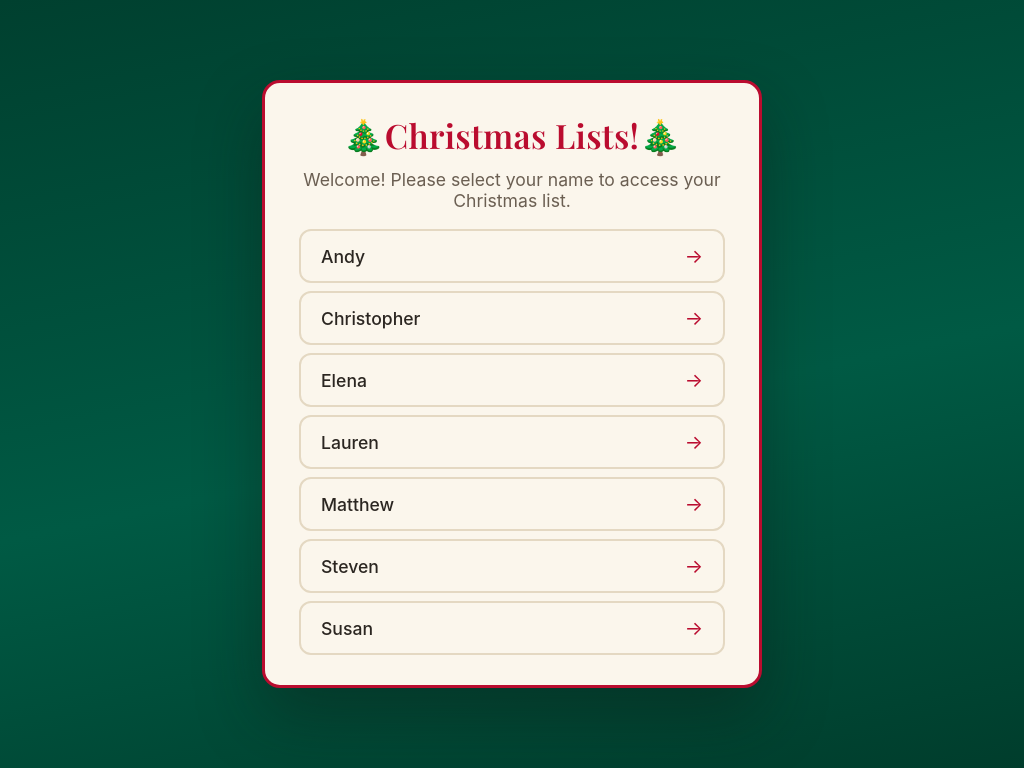
it: one person's password cannot sign in as another
The image size is (1024, 768).
Click the text "Elena" at (344, 380), box [321, 370, 367, 390]
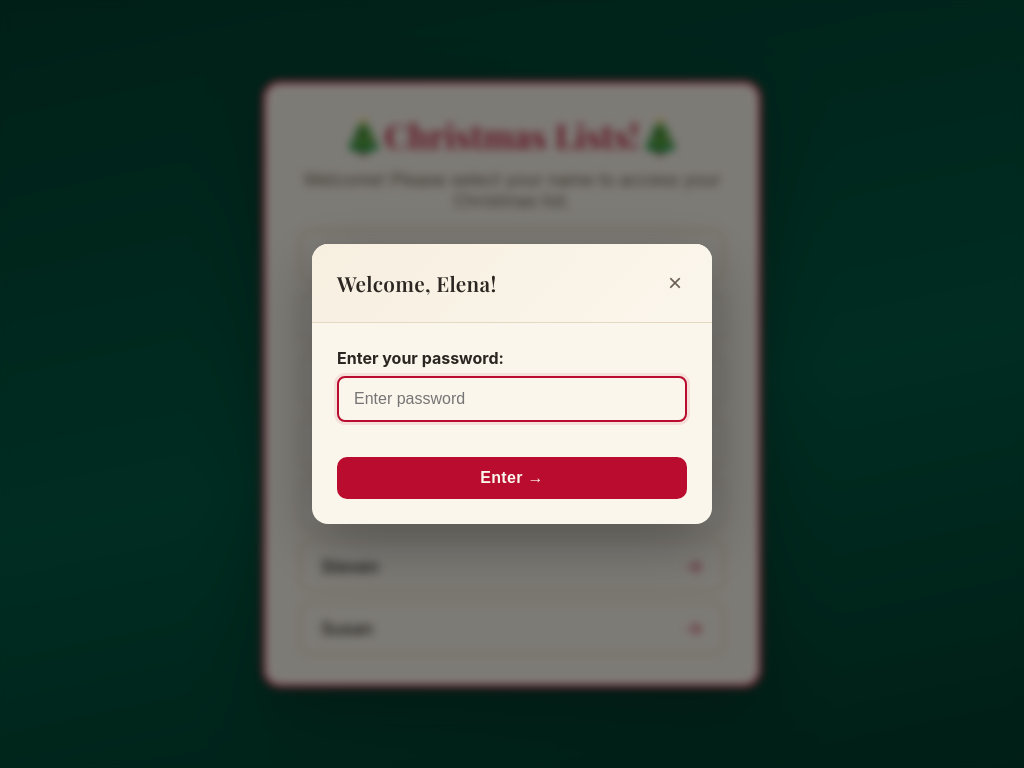
Type "andys-password" into the password field labelled "Enter your password:" at (512, 399), box [337, 376, 687, 422]
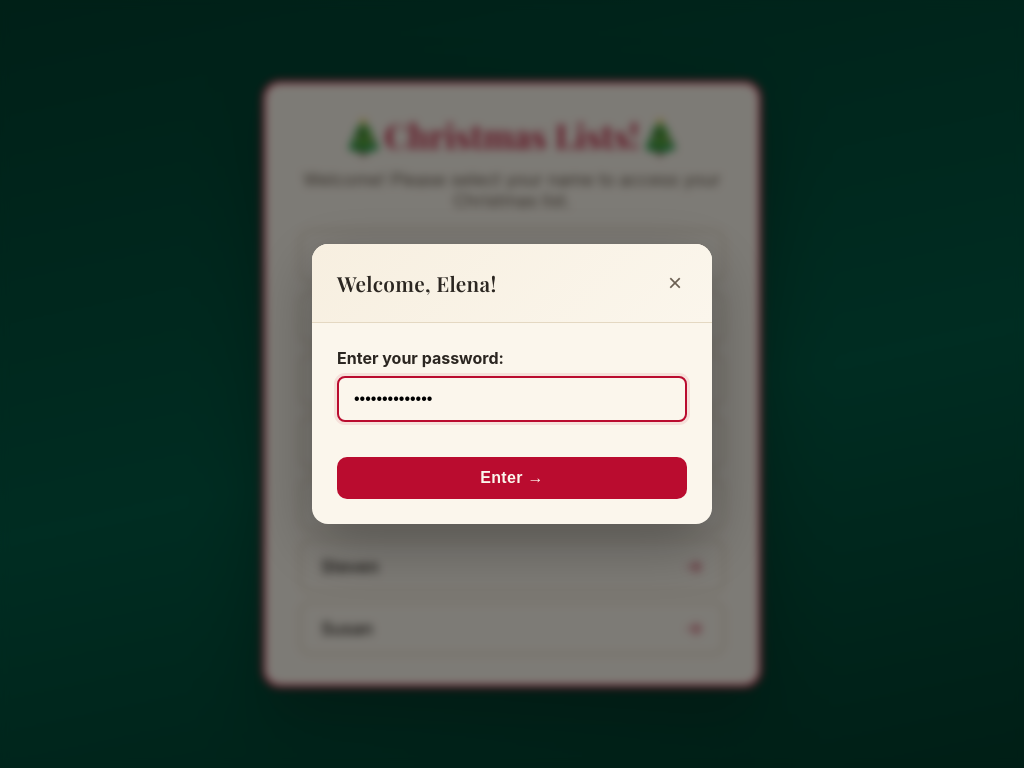
Click the button "Enter →" at (512, 478), box [337, 457, 687, 499]
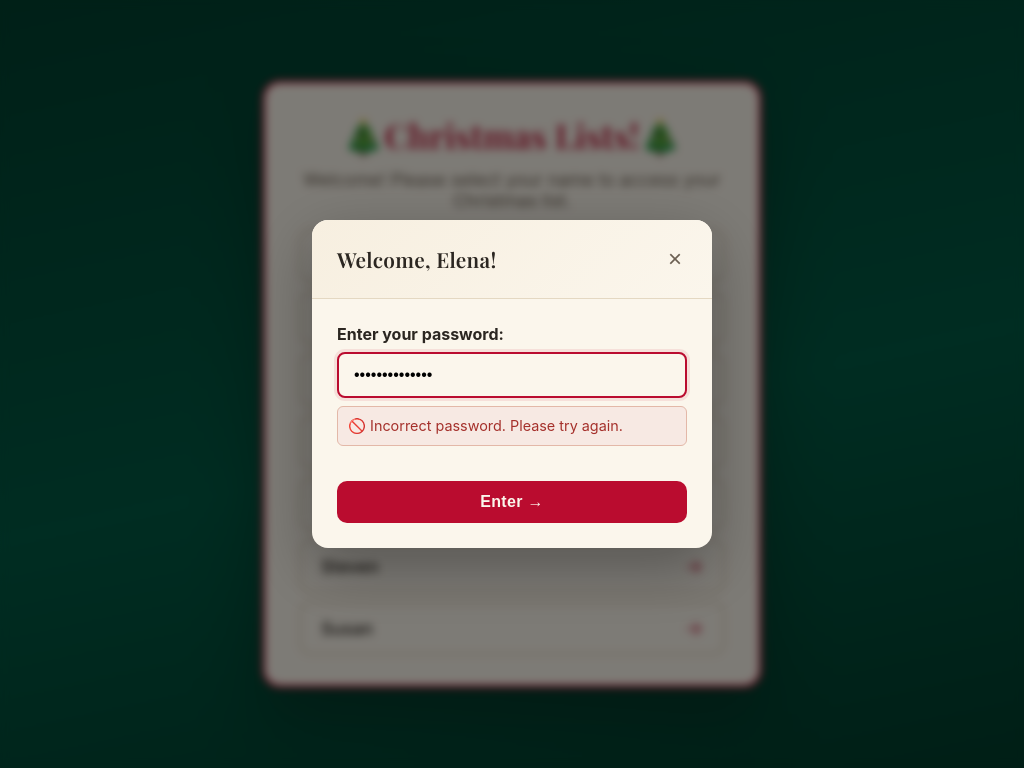
Now the text "🚫 Incorrect password. Please try again." is shown, box [337, 406, 687, 446]
